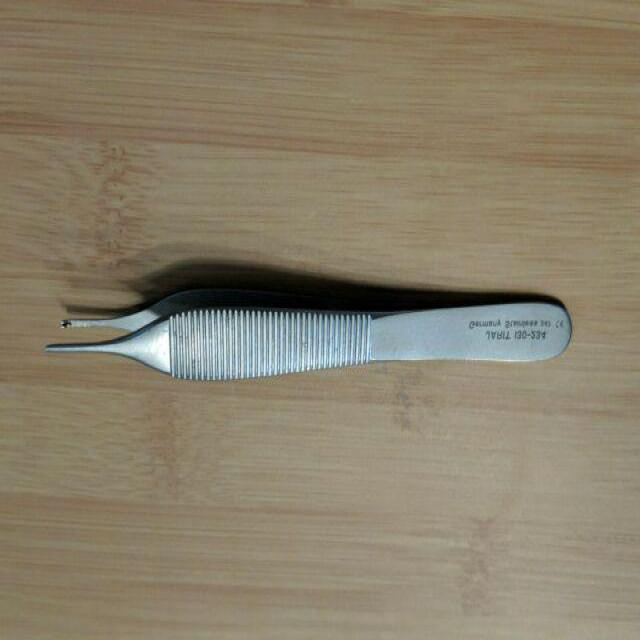Forceps: (42, 266, 576, 389)
